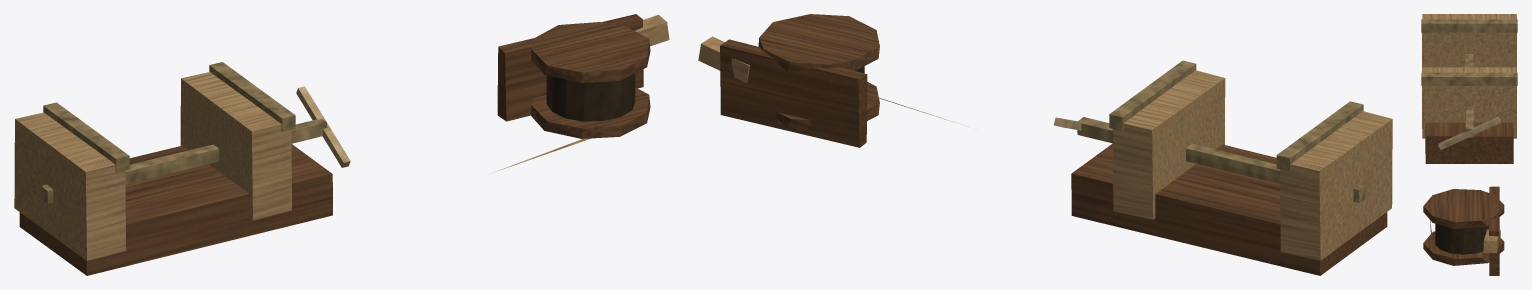
File: WestViseAndInk_LOD2.fbx
3 views of the same model, side by side, from view 1: azimuth 30°, elevation 25°; view 2: azimuth 150°, elevation 25°; view 3: azimuth 270°, elevation 25° (orthographic). The views are drawn at different scales.
Parts seen in each view (by area): view 1: WestViseAndInk.001; view 2: WestViseAndInk.001; view 3: WestViseAndInk.001.
Boxes of the visible parts, bbox=[...] form: WestViseAndInk.001: bbox=[14, 14, 669, 275]; WestViseAndInk.001: bbox=[698, 14, 1392, 275]; WestViseAndInk.001: bbox=[1421, 14, 1517, 275].
Size of the model in its own units: 1.38 by 0.2335 by 0.274.
Materials: 1 (1 with a texture image).
